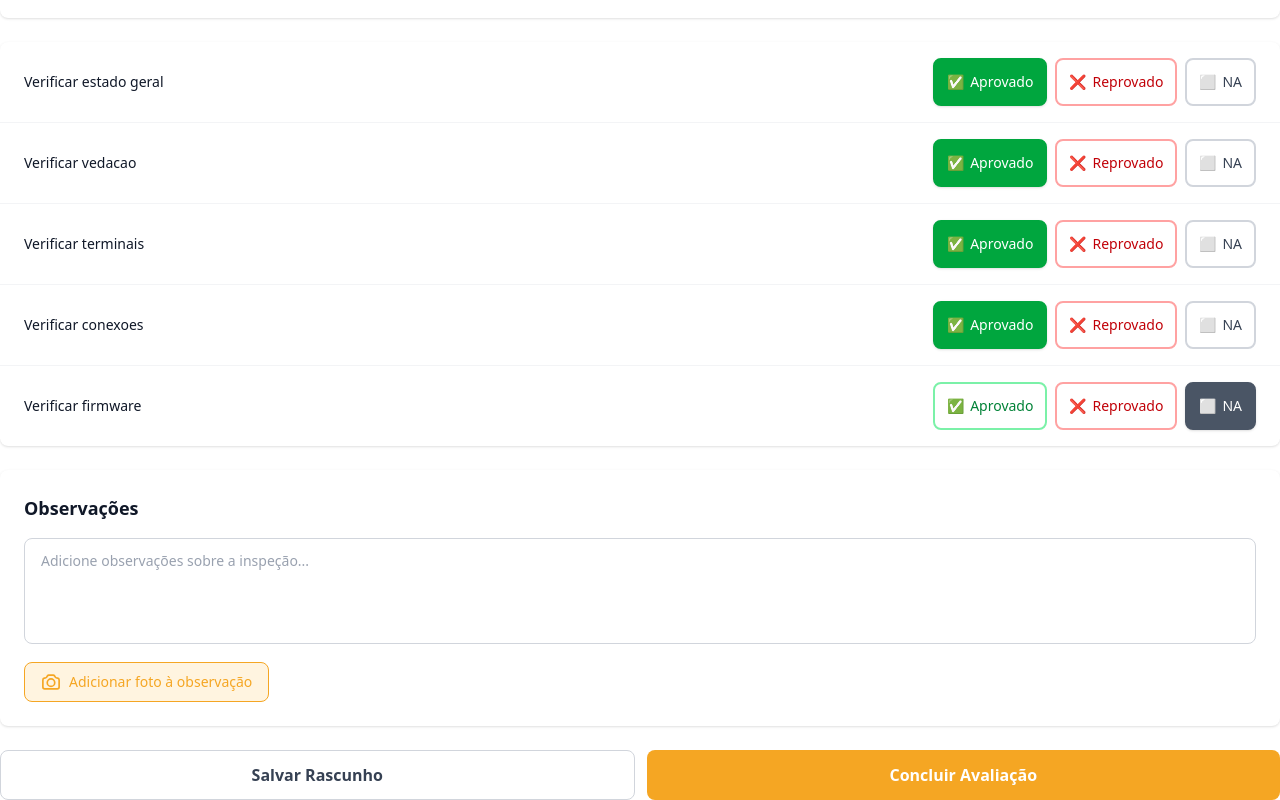
Test case: ChecklistForm - Checklist Validation (US-306) › shows photo warning in modal when photos < 6
(page scrolled)
Click the button "Concluir Avaliação". click: (963, 775)
box: [646, 750, 1279, 799]
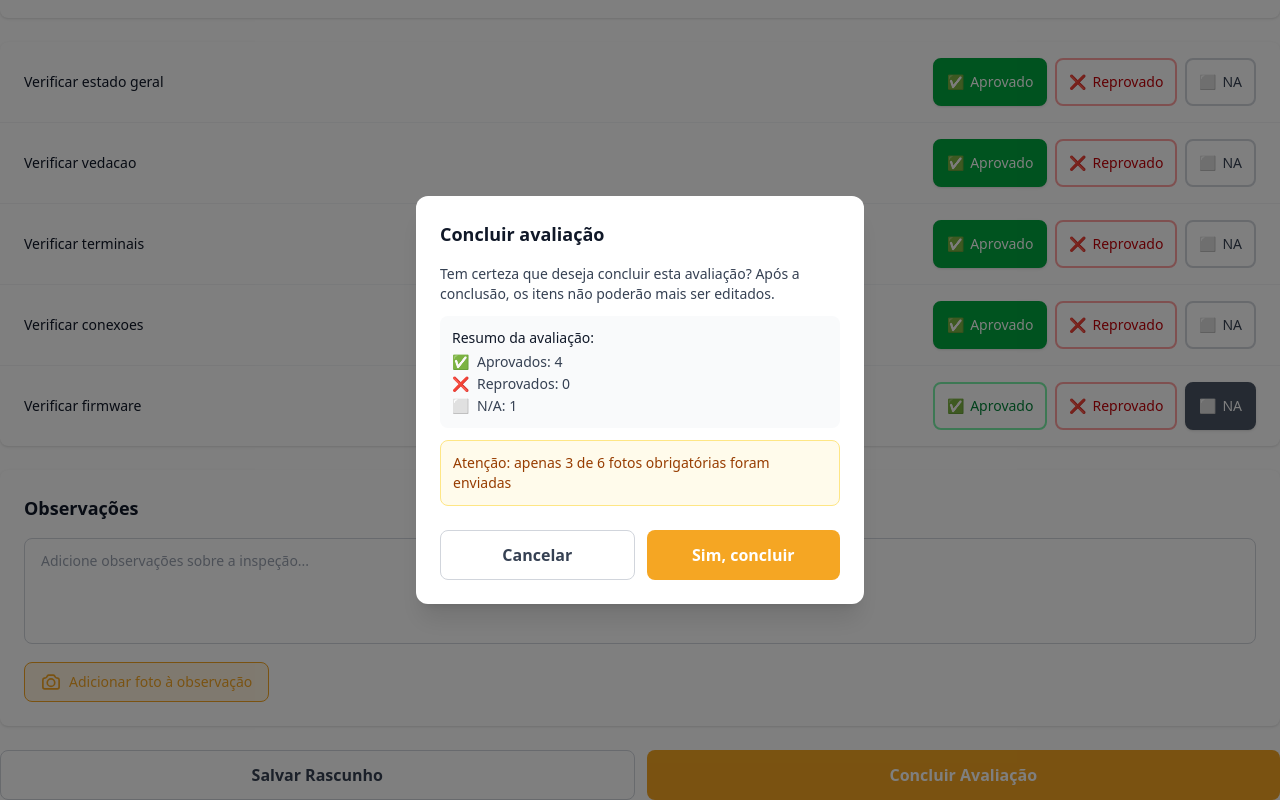
Now the text "Atenção: apenas 3 de 6 fotos obrigatórias foram enviadas" is shown, box [440, 440, 840, 506]
